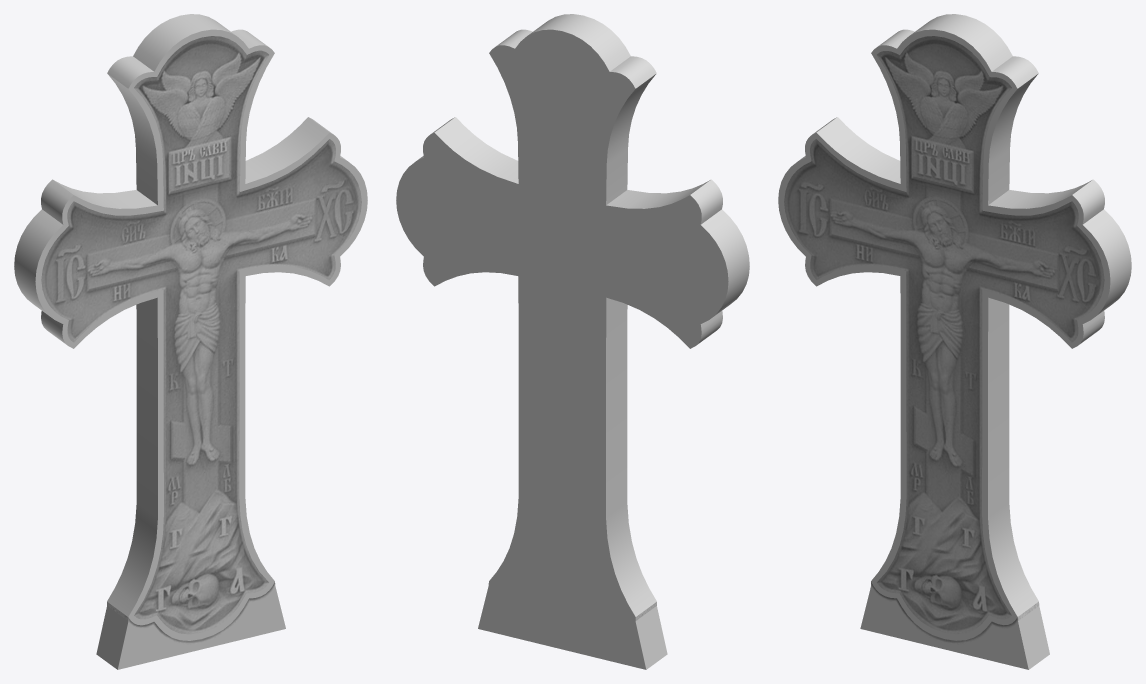
File: cnd6e2b89ddd_tkf.glb
3 renders of one model, left to right at view 1: azimuth 30°, elevation 25°; view 2: azimuth 150°, elevation 25°; view 3: azimuth 330°, elevation 25°, orthographic.
Parts seen in each view (by area): view 1: Pam-d02-098_2_notexture, Pam-d02-098; view 2: Pam-d02-098; view 3: Pam-d02-098_2_notexture, Pam-d02-098.
Part boxes in pixels (x1,y1,x2,y2): Pam-d02-098_2_notexture: (41, 36, 361, 644); Pam-d02-098: (14, 14, 367, 669); Pam-d02-098: (396, 14, 749, 669); Pam-d02-098_2_notexture: (784, 36, 1104, 644); Pam-d02-098: (778, 14, 1131, 669).
Bounding box in the file's own units: 0.45 × 0.8 × 0.05.
Materials: 1 (1 with a texture image).
